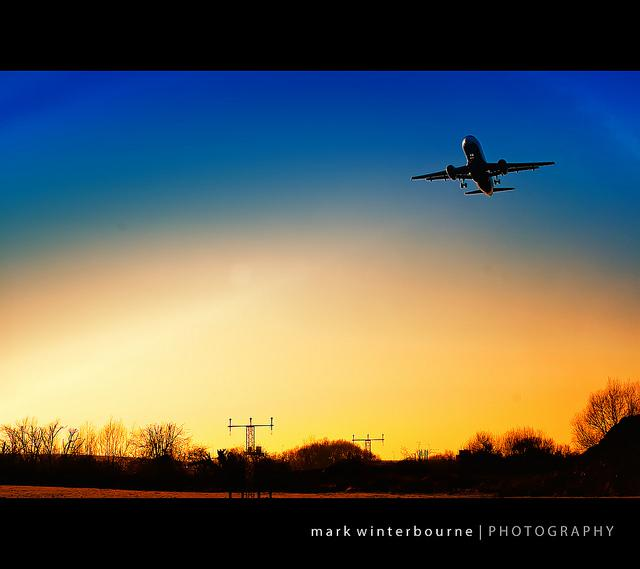Airplane: (412, 136, 557, 198)
